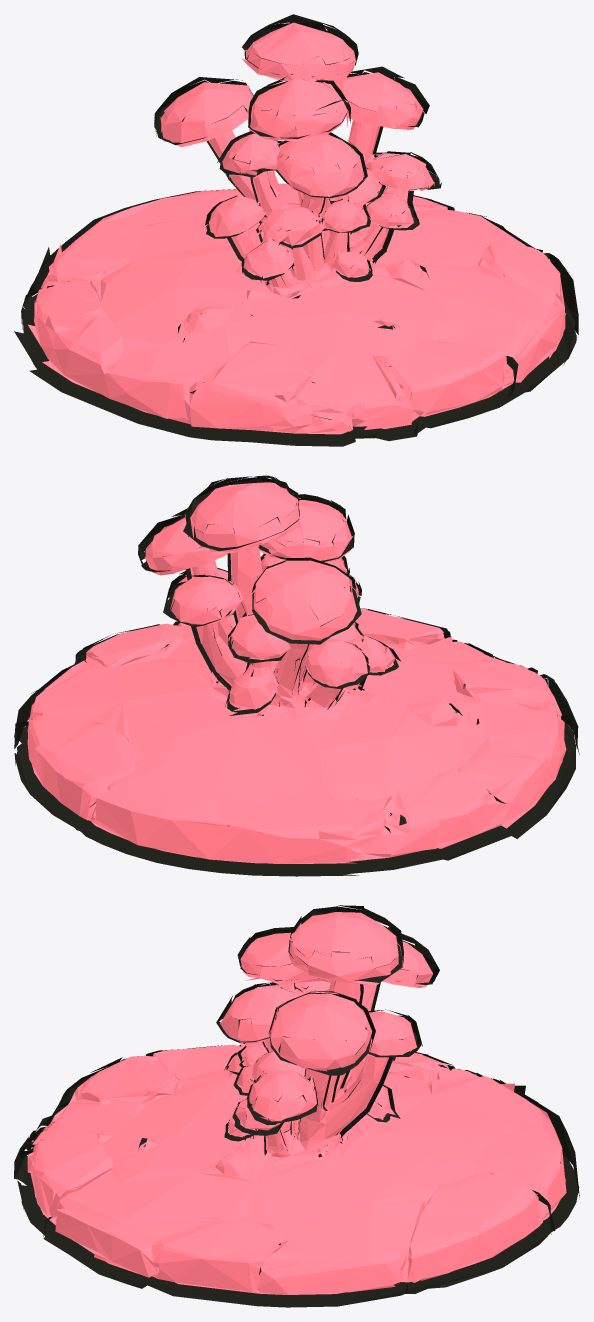
File: df_v2_mushroom_cluster_small_e_a.glb
3 views of the same model, one above another, from view 1: azimuth 30°, elevation 25°; view 2: azimuth 150°, elevation 25°; view 3: azimuth 270°, elevation 25° (orthographic).
Visible parts, largest first — view 1: mushroom_cluster_small_e_mesh_01, mushroom_cluster_small_e_mesh_01_ink_outline; view 2: mushroom_cluster_small_e_mesh_01, mushroom_cluster_small_e_mesh_01_ink_outline; view 3: mushroom_cluster_small_e_mesh_01, mushroom_cluster_small_e_mesh_01_ink_outline.
Boxes of the visible parts, <box> form: mushroom_cluster_small_e_mesh_01: <box>28,22,566,434</box>; mushroom_cluster_small_e_mesh_01_ink_outline: <box>14,14,578,446</box>; mushroom_cluster_small_e_mesh_01: <box>27,482,566,863</box>; mushroom_cluster_small_e_mesh_01_ink_outline: <box>14,475,579,876</box>; mushroom_cluster_small_e_mesh_01: <box>27,912,566,1294</box>; mushroom_cluster_small_e_mesh_01_ink_outline: <box>14,905,579,1307</box>.
Size of the model in its own units: 0.6327 by 0.3576 by 0.6282.
